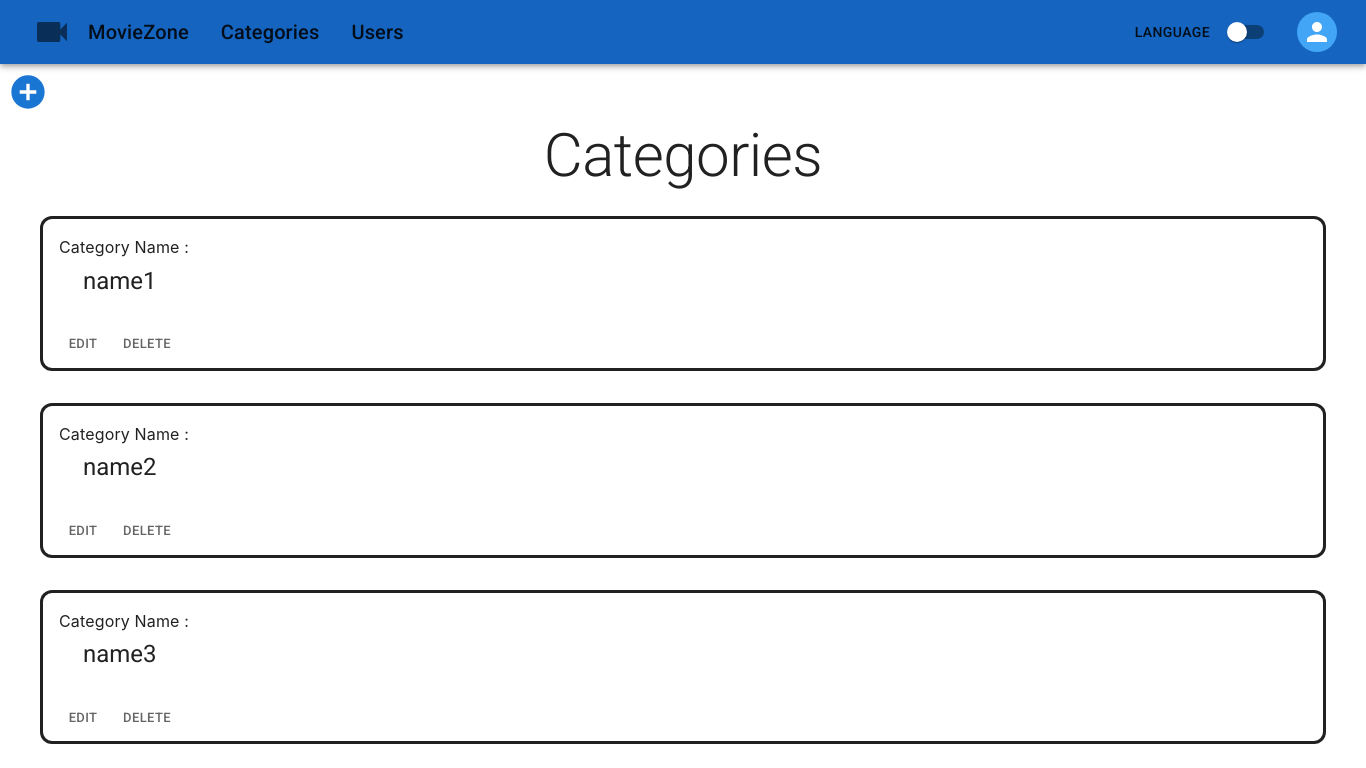
category add modal opens and shows correctly
The image size is (1366, 768).
Click the button with test id "category-add-button": (28, 92) [0,64,56,120]
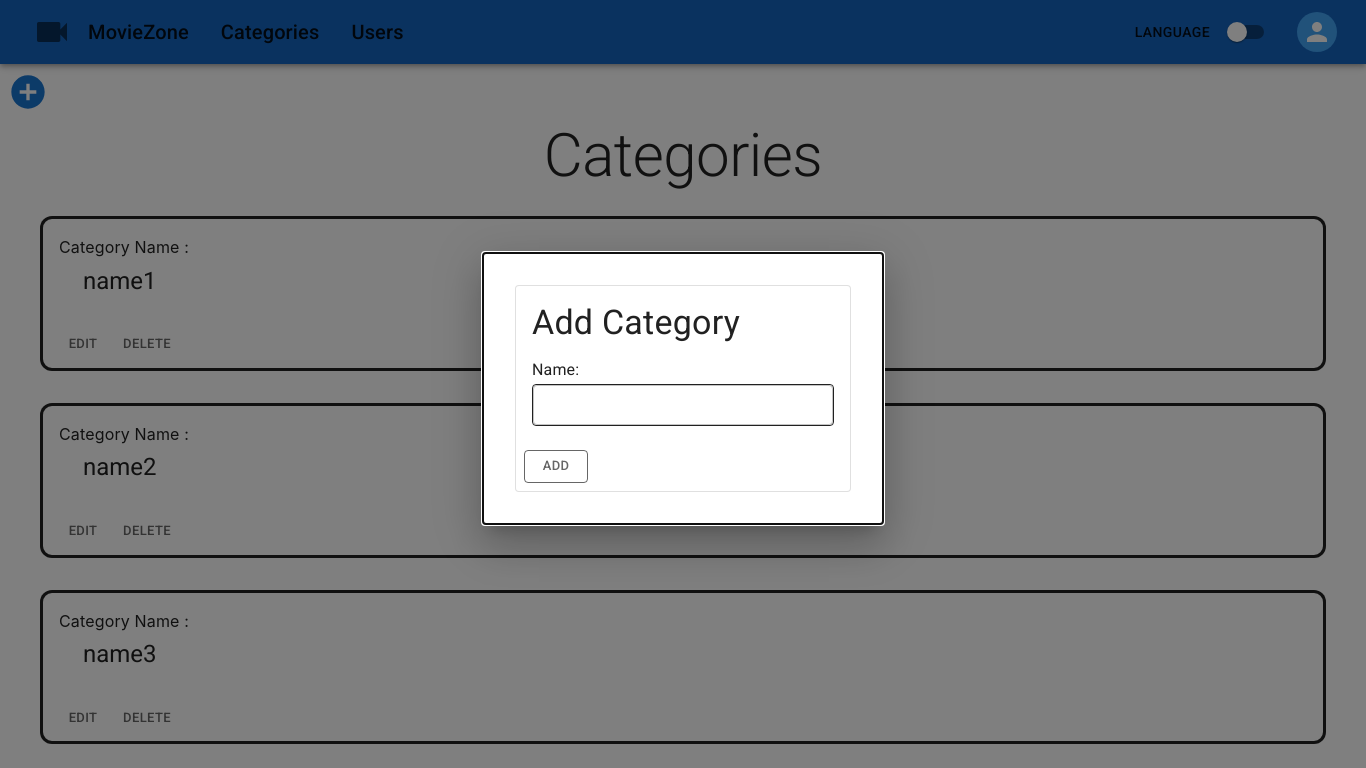
Expected: the field with test id "category-add-name" is shown, [533,385,833,425]
Expected: the button "Add" is shown, [524,450,588,483]
